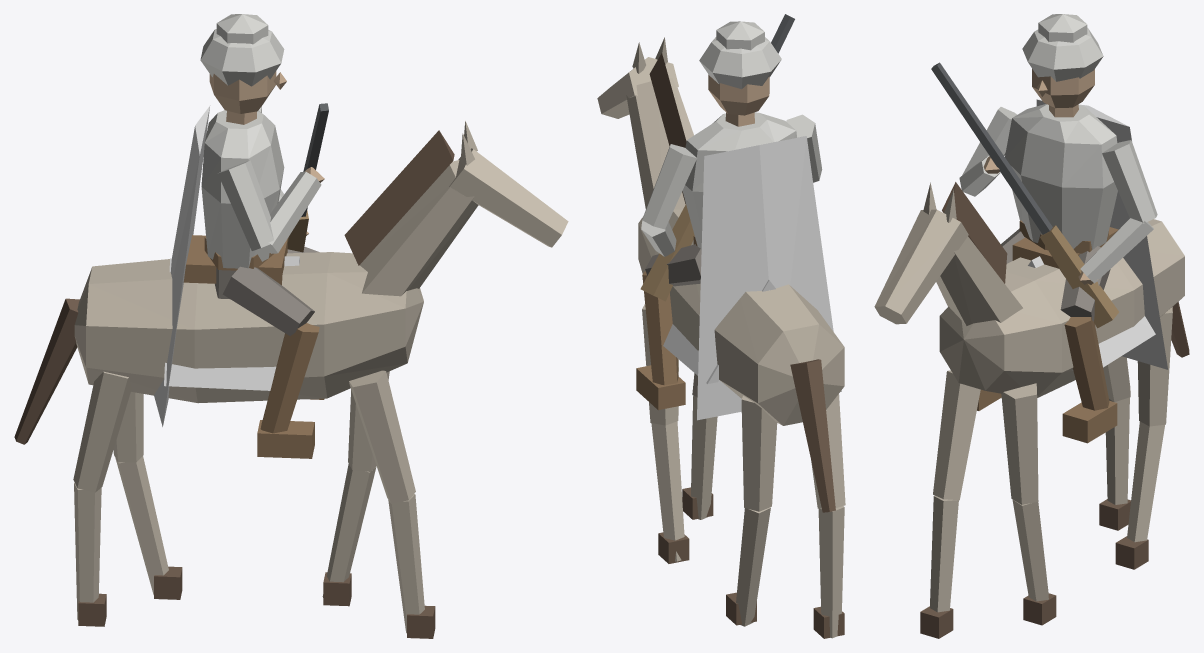
The model's file is berber-cavalry.glb.
3 views of the same model, side by side, from view 1: azimuth 30°, elevation 25°; view 2: azimuth 150°, elevation 25°; view 3: azimuth 270°, elevation 25° (orthographic). The views are drawn at different scales.
Visible parts, largest first — view 1: LOD0; view 2: LOD0; view 3: LOD0.
Boxes of the visible parts, x1,y1,x2,y2 form: LOD0: (14,14,568,638); LOD0: (597,14,845,638); LOD0: (874,14,1189,638).
Size of what is drawn, in the model's own units: 0.9264 by 1.32 by 0.6659.
